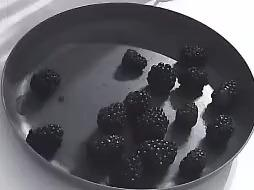berry: (26, 124, 63, 159), (137, 139, 176, 170), (134, 107, 168, 140), (111, 154, 142, 187), (31, 68, 62, 100), (97, 102, 126, 133), (206, 114, 233, 147), (91, 135, 124, 161), (179, 148, 205, 180), (147, 62, 175, 91), (178, 66, 208, 91), (212, 80, 237, 108), (123, 90, 150, 112), (121, 49, 146, 71), (175, 103, 197, 127), (181, 45, 206, 66)
